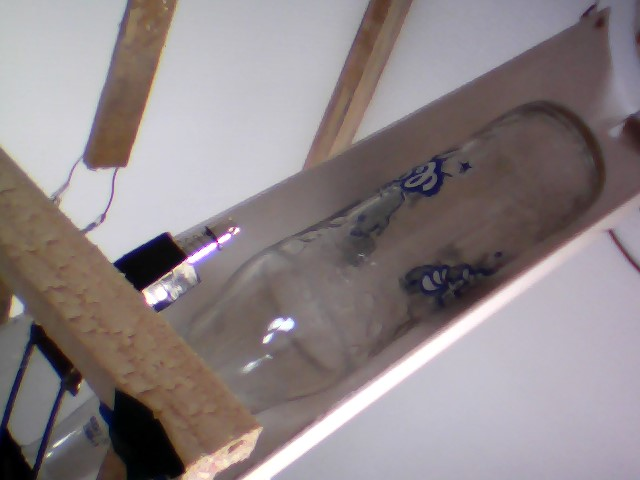vidrio: (183, 95, 607, 422)
